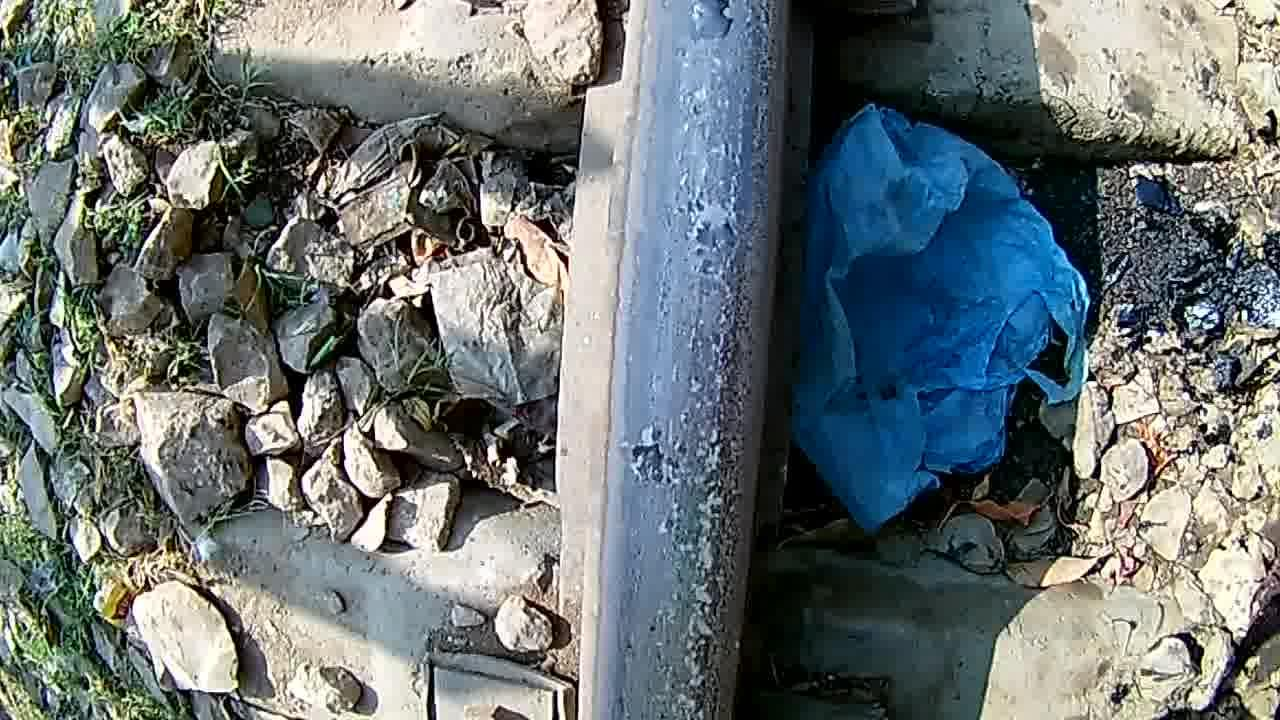crack: (608, 0, 780, 720)
